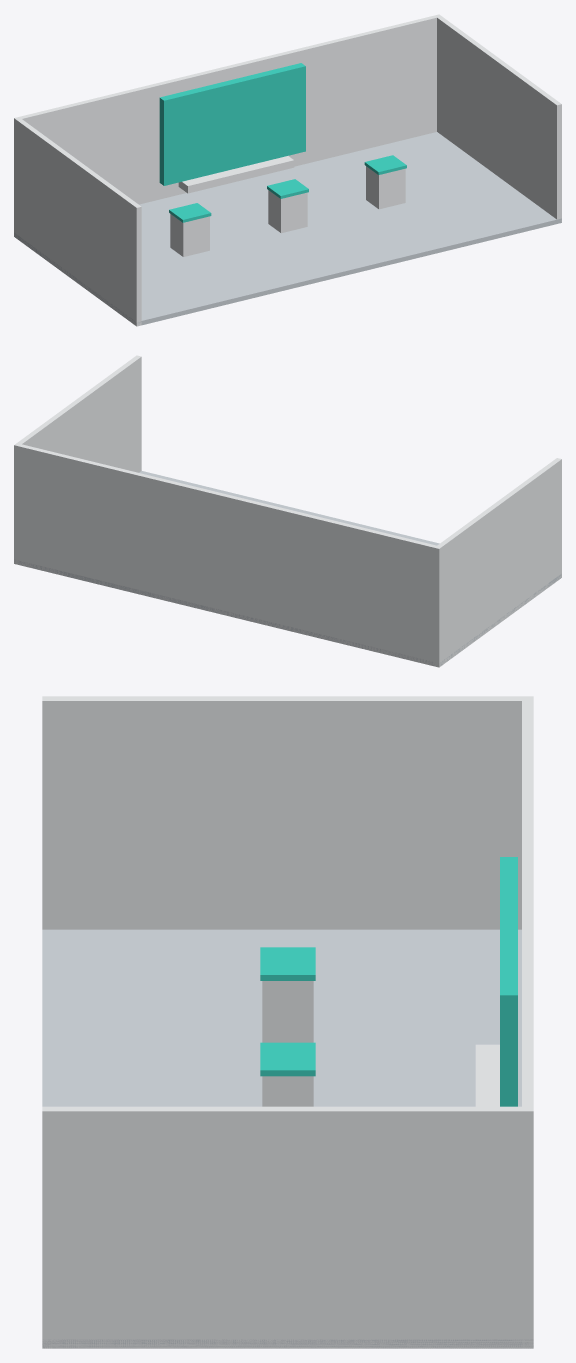
3 views of the same model, one above another, from view 1: azimuth 30°, elevation 25°; view 2: azimuth 150°, elevation 25°; view 3: azimuth 270°, elevation 25° (orthographic). The views are drawn at different scales.
Parts seen in each view (by area): view 1: Exhibition Booth Concept; view 2: Exhibition Booth Concept; view 3: Exhibition Booth Concept.
Boxes of the visible parts, <box> form: Exhibition Booth Concept: <box>14,14,561,326</box>; Exhibition Booth Concept: <box>14,355,561,667</box>; Exhibition Booth Concept: <box>42,696,533,1348</box>.
Bounding box in the file's own units: 12 × 3.2 × 6.
